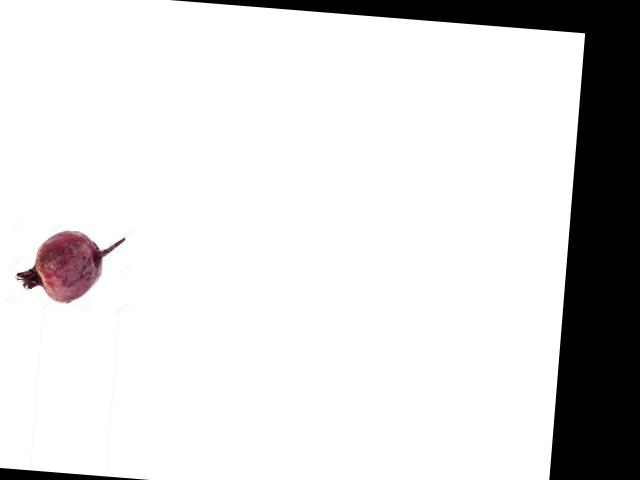beet: (13, 225, 125, 306)
